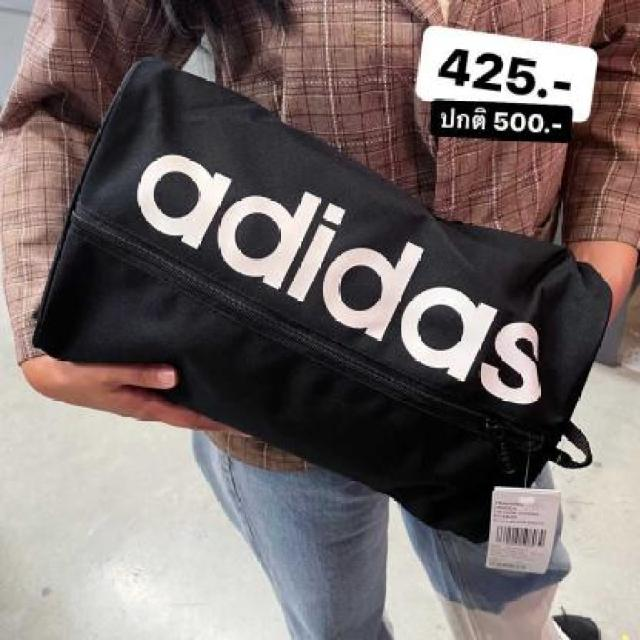Bag: (24, 44, 624, 558)
